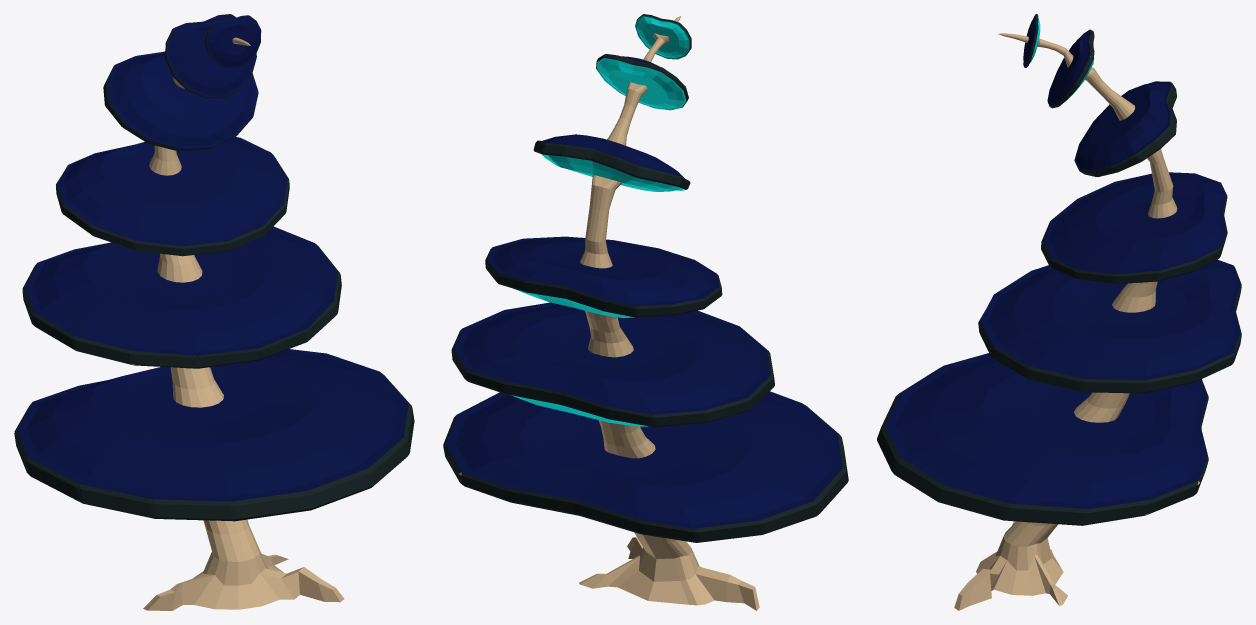
Rendered from mushroom 7.fbx.
3 views of the same model, side by side, from view 1: azimuth 30°, elevation 25°; view 2: azimuth 150°, elevation 25°; view 3: azimuth 270°, elevation 25° (orthographic). The views are drawn at different scales.
Visible parts, largest first — view 1: boom2.003; view 2: boom2.003; view 3: boom2.003.
Boxes of the visible parts, box(x1,y1,x2,y2) form: boom2.003: box(14, 14, 414, 610); boom2.003: box(443, 14, 848, 610); boom2.003: box(877, 14, 1241, 610).
Bounding box in the file's own units: 2699 × 4110 × 2451.
